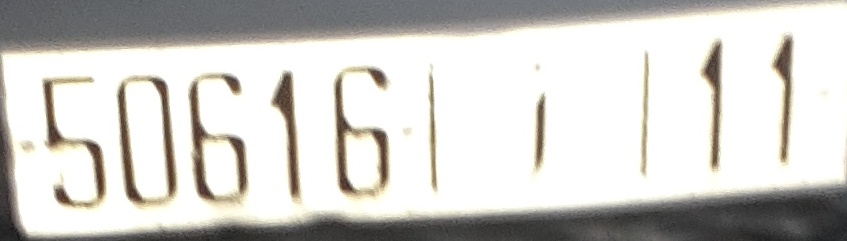0: (114, 72, 177, 205)
1: (269, 66, 308, 203), (698, 36, 728, 168), (770, 31, 798, 163)
5: (39, 72, 108, 209)
6: (185, 69, 251, 205), (331, 63, 393, 196)
a: (527, 54, 552, 172)
